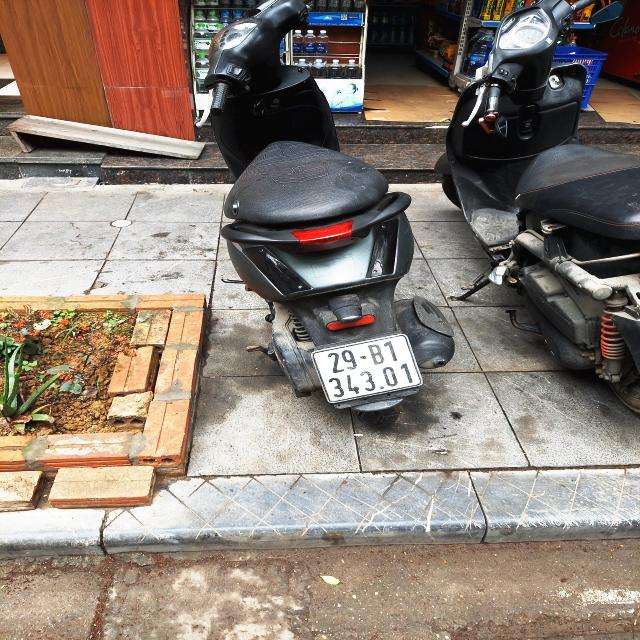license_plate: (309, 331, 430, 410)
